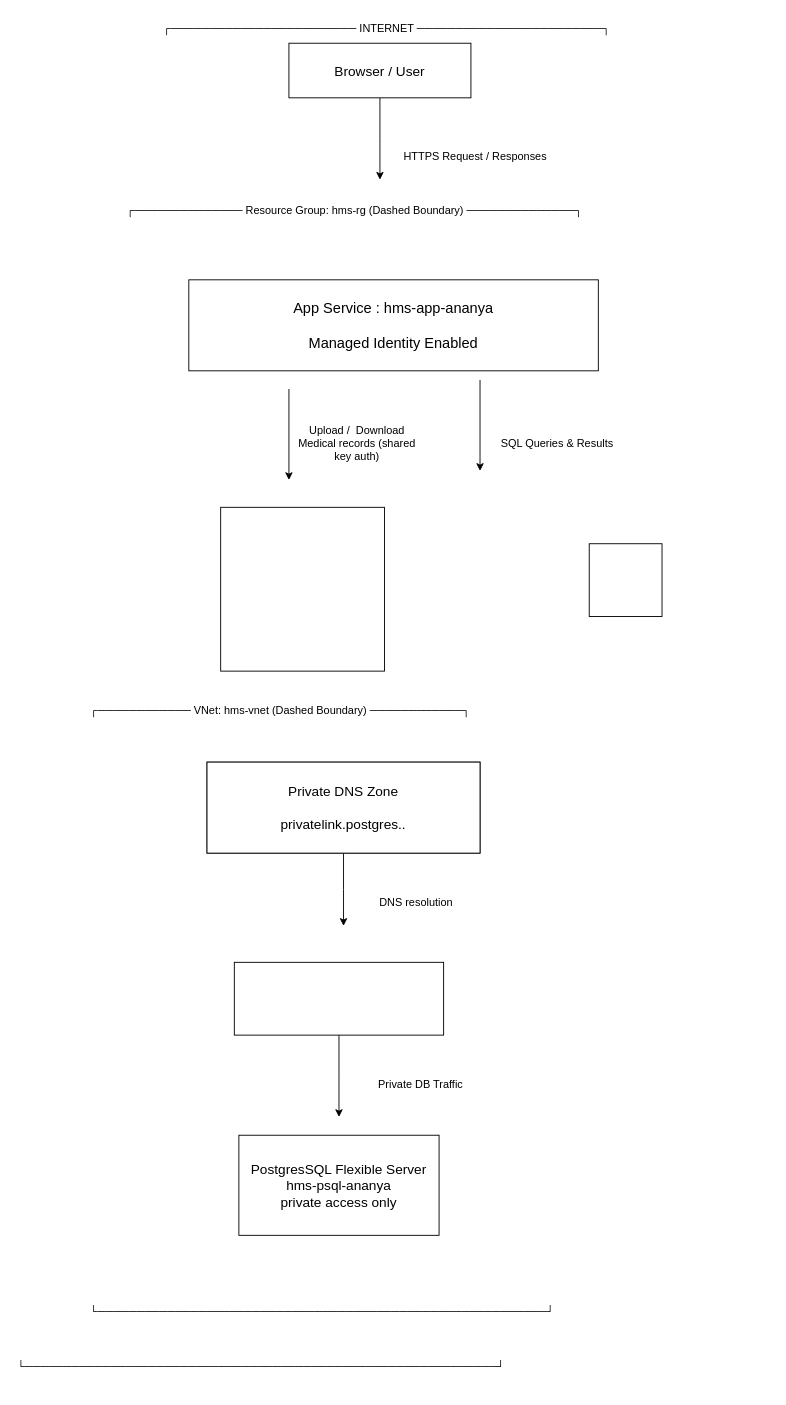
The diagram is 786 pixels wide and 1405 high, and some of its shapes have lost their labels. Here are the shapes that lost their labels. From the top down, the centre of each, then its label:
At pixel 302 588: "Storage Account hmsstoreananya Container: hmsmedicalrecord".
At pixel 338 998: "Private Endpoint".
